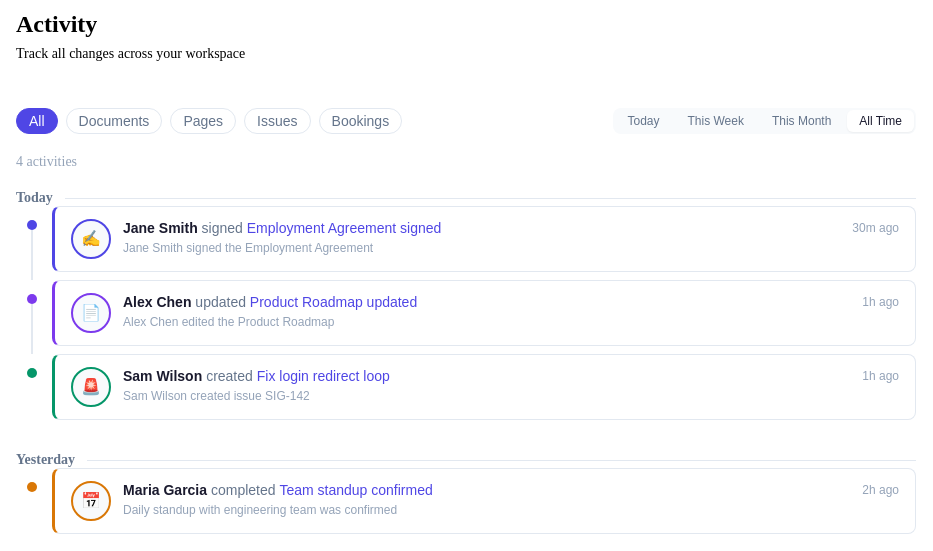
it: ActivityPage › filters activities when a filter tab is clicked
Click the button "Documents".
click(114, 121)  # box [66, 108, 162, 134]
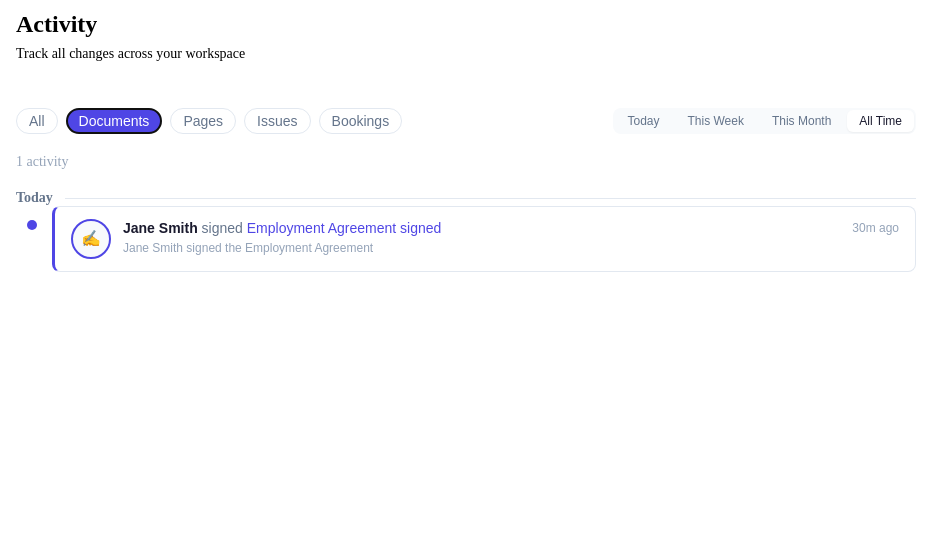
Expected: the button "Product Roadmap updated" is gone
Expected: the button "Fix login redirect loop" is gone
Expected: the button "Team standup confirmed" is gone
